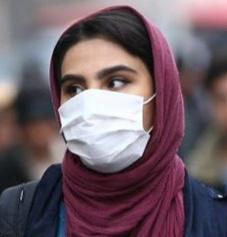OK: (59, 54, 151, 175)
